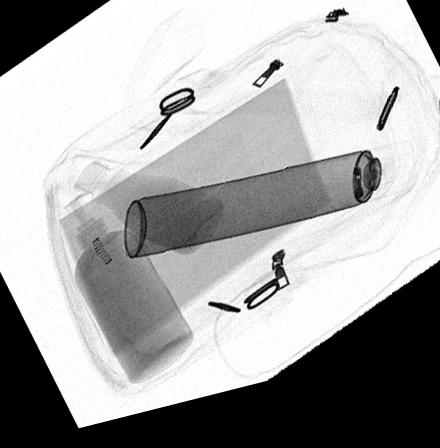Sprayer: (123, 161, 416, 265)
